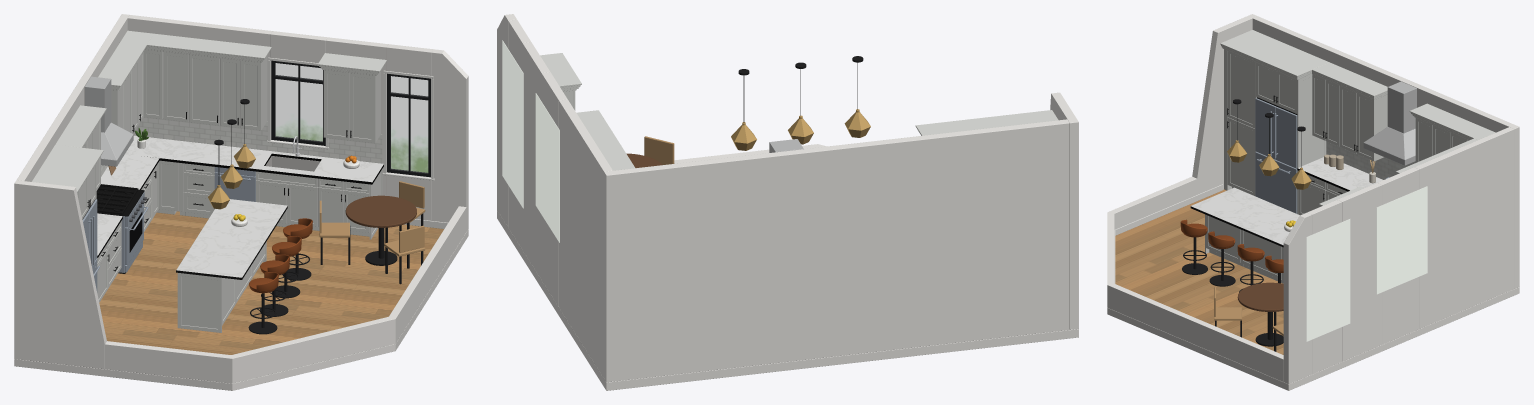
File: kitchen.glb
The picture shows the model from 3 angles, left to right: view 1: azimuth 30°, elevation 25°; view 2: azimuth 150°, elevation 25°; view 3: azimuth 270°, elevation 25°; orthographic projection. The views are drawn at different scales.
Visible parts, largest first — view 1: walls_floor_slab, floor_oak, panel_crown_molding, countertop_quartz, island_countertop, backsplash_b, windowd_exteriorbackdrop, windowb_exteriorbackdrop, windowb_glass, windowd_glass, island_door_deco_end_R, door_B05_W1842 (+44 smaller); view 2: walls_floor_slab, panel_crown_molding, windowd_exteriorbackdrop, windowb_exteriorbackdrop, island_pendant_shades, dining_chairseats; view 3: walls_floor_slab, floor_oak, panel_crown_molding, windowd_exteriorbackdrop, windowb_exteriorbackdrop, fridge_leaves, island_countertop, hood_chimney, door_A11_TP2496_M, door_deco_A_REP96_L, door_A11_TP2496_B, countertop_quartz (+22 smaller).
Part boxes in pixels (<box>): walls_floor_slab: <box>14,14,468,390</box>; floor_oak: <box>99,211,443,354</box>; panel_crown_molding: <box>32,30,386,192</box>; countertop_quartz: <box>97,135,383,257</box>; island_countertop: <box>176,199,287,279</box>; backsplash_b: <box>133,117,382,163</box>; windowd_exteriorbackdrop: <box>391,76,428,172</box>; windowb_exteriorbackdrop: <box>275,63,322,141</box>; windowb_glass: <box>275,63,322,141</box>; windowd_glass: <box>391,76,427,172</box>; island_door_deco_end_R: <box>177,273,221,332</box>; door_B05_W1842: <box>189,55,219,125</box>; walls_floor_slab: <box>497,14,1078,390</box>; panel_crown_molding: <box>540,53,1058,170</box>; windowd_exteriorbackdrop: <box>502,40,523,208</box>; windowb_exteriorbackdrop: <box>535,93,559,242</box>; island_pendant_shades: <box>731,109,870,150</box>; dining_chairseats: <box>644,136,674,164</box>; walls_floor_slab: <box>1107,14,1519,390</box>; floor_oak: <box>1115,189,1283,354</box>; panel_crown_molding: <box>1220,30,1495,206</box>; windowd_exteriorbackdrop: <box>1306,219,1350,341</box>; windowb_exteriorbackdrop: <box>1376,186,1427,294</box>; fridge_leaves: <box>1255,98,1297,213</box>; island_countertop: <box>1190,187,1299,247</box>; hood_chimney: <box>1363,81,1416,165</box>; door_A11_TP2496_M: <box>1227,51,1254,128</box>; door_deco_A_REP96_L: <box>1297,74,1326,214</box>; door_A11_TP2496_B: <box>1227,117,1254,195</box>; countertop_quartz: <box>1297,157,1383,191</box>.
Size of the model in its own units: 7.78 by 2.87 by 6.44.
39 materials, 7 textured.
